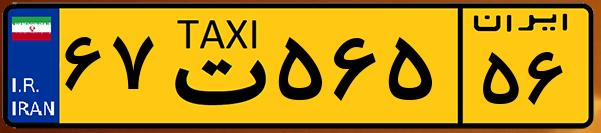5: (270, 28, 330, 110), (385, 28, 445, 110), (475, 38, 525, 113)
6: (330, 28, 385, 110), (57, 26, 110, 100), (525, 38, 570, 115)
7: (110, 28, 158, 98)
ت: (158, 12, 270, 120)
